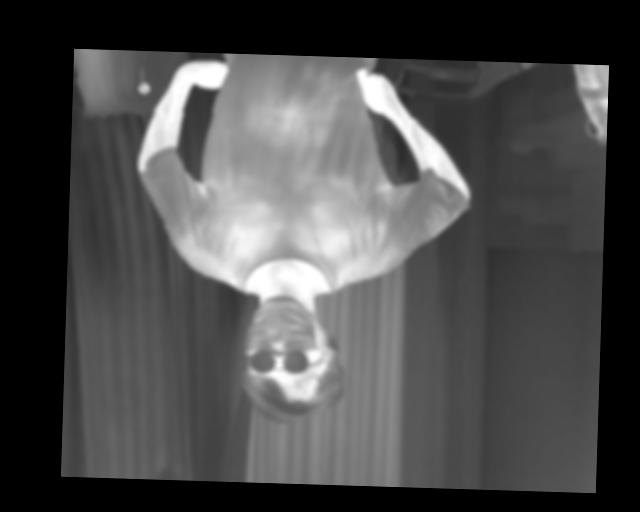face: (237, 292, 346, 425)
